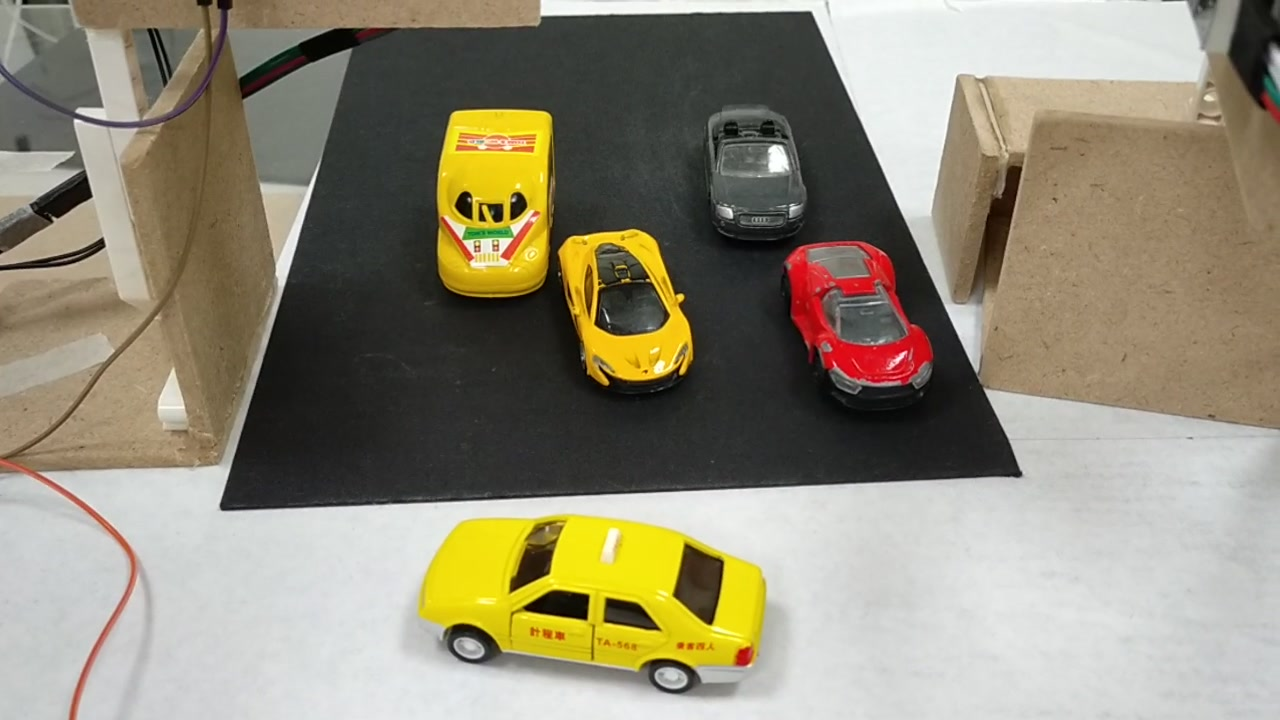car: (423, 513, 779, 686), (783, 242, 939, 400), (554, 240, 700, 393), (699, 111, 812, 243)
